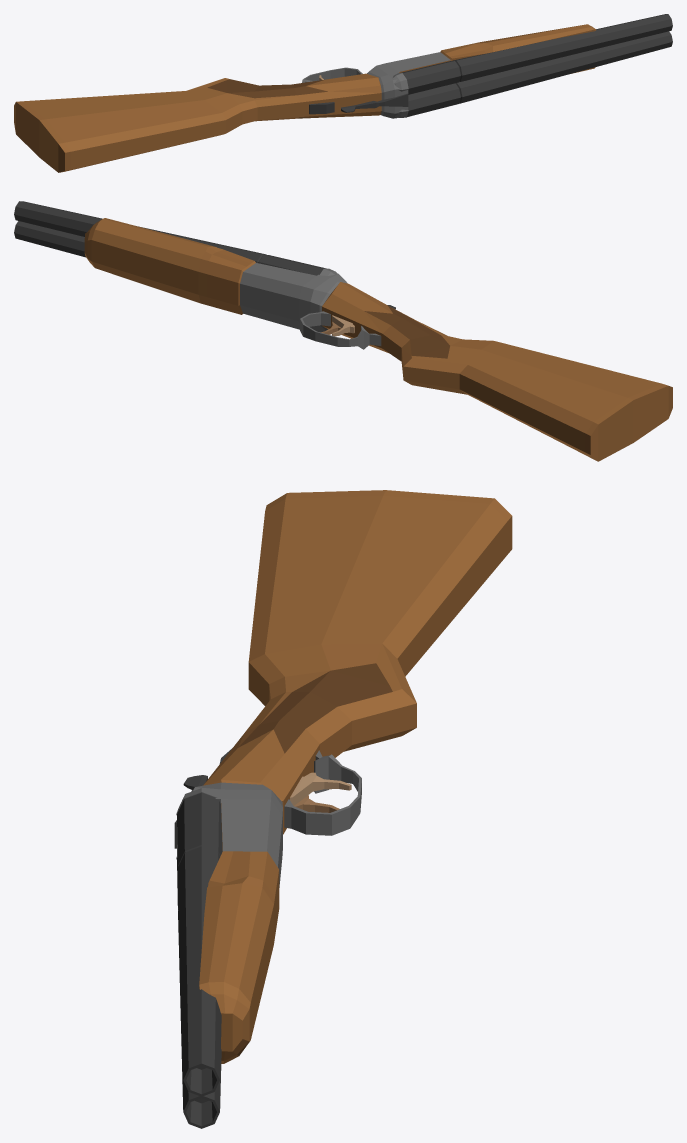
File: CoachGun_3D.glb
3 views of the same model, one above another, from view 1: azimuth 30°, elevation 25°; view 2: azimuth 150°, elevation 25°; view 3: azimuth 270°, elevation 25° (orthographic). The views are drawn at different scales.
Visible parts, largest first — view 1: doubleBarrel (1); view 2: doubleBarrel (1); view 3: doubleBarrel (1).
Part boxes in pixels (<box>): doubleBarrel (1): <box>14,14,672,172</box>; doubleBarrel (1): <box>14,201,672,461</box>; doubleBarrel (1): <box>174,490,512,1128</box>.
Size of the model in its own units: 0.8452 by 0.0612 by 0.2099.
1 material, 1 textured.
